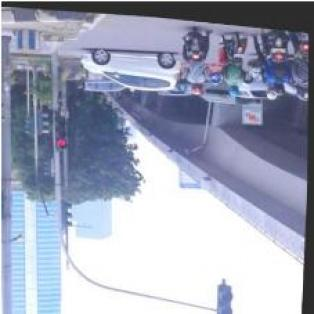Semaforo Rojo: (217, 280, 237, 312), (56, 114, 66, 146)
